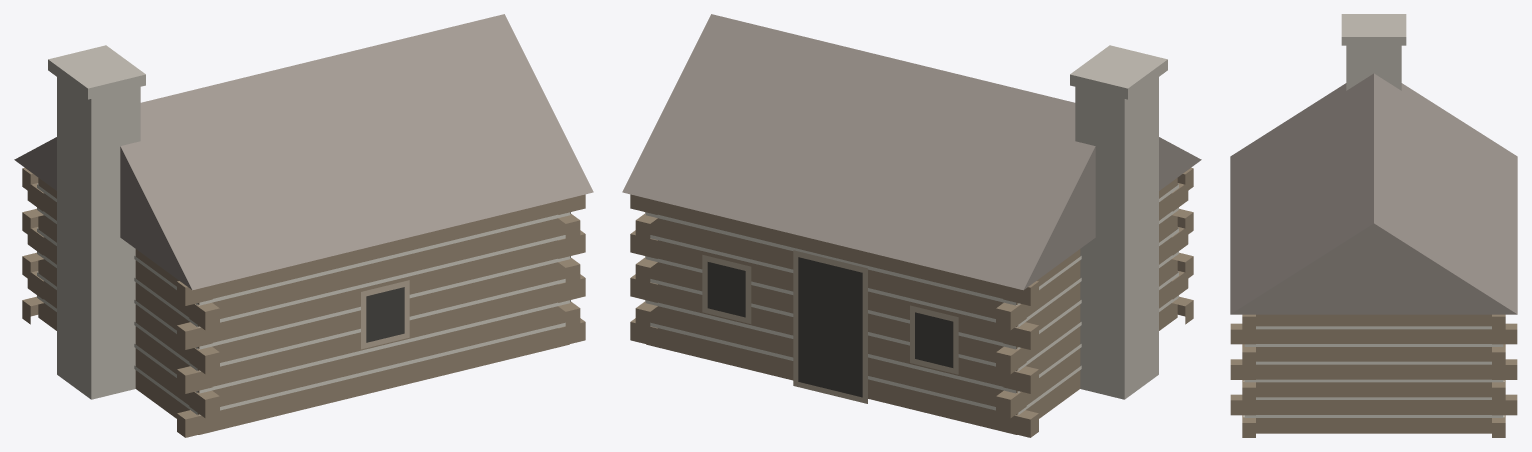
File: blacksmith_shop_state_st__log_1823.glb
3 renders of one model, left to right at view 1: azimuth 30°, elevation 25°; view 2: azimuth 150°, elevation 25°; view 3: azimuth 270°, elevation 25°, orthographic. The views are drawn at different scales.
Visible parts, largest first — view 1: blacksmith_shop_state_st__log_1823; view 2: blacksmith_shop_state_st__log_1823; view 3: blacksmith_shop_state_st__log_1823.
Part boxes in pixels (left/top/right/bottom): blacksmith_shop_state_st__log_1823: left=14, top=14, right=593, bottom=437; blacksmith_shop_state_st__log_1823: left=622, top=14, right=1201, bottom=437; blacksmith_shop_state_st__log_1823: left=1230, top=14, right=1517, bottom=437.
Bounding box in the file's own units: 7.07 × 4.94 × 5.
